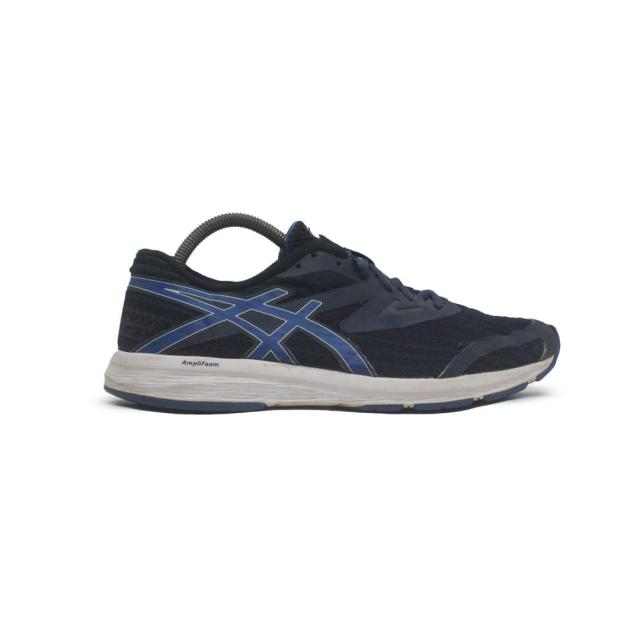heel: (111, 249, 185, 354)
midsole: (106, 351, 555, 409)
uppersole: (175, 221, 564, 380)
